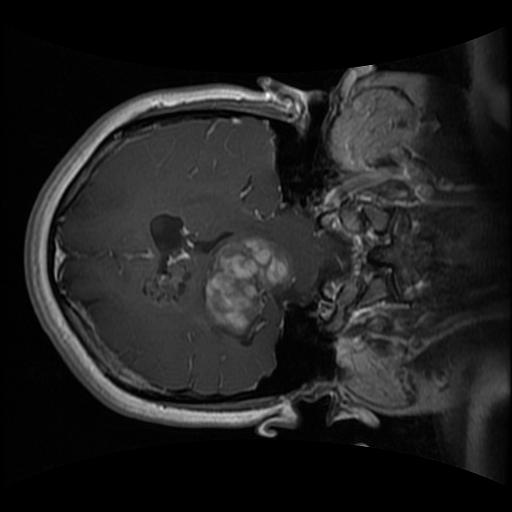glioma: (198, 233, 293, 347)
